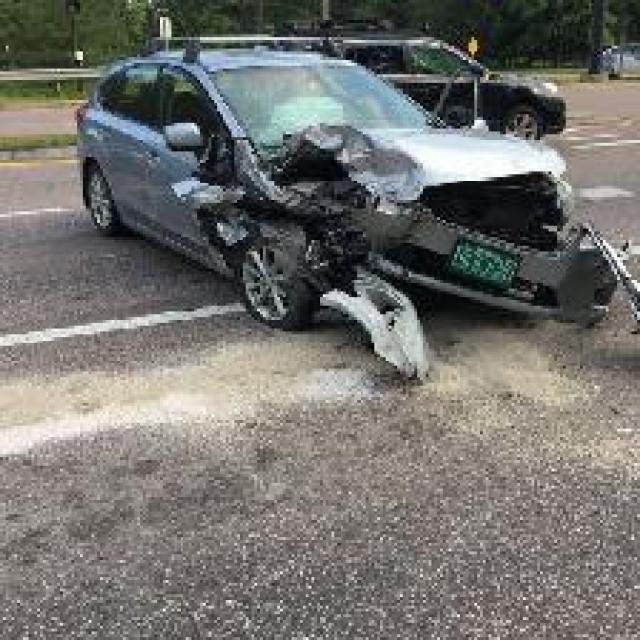damaged: (185, 132, 638, 378)
